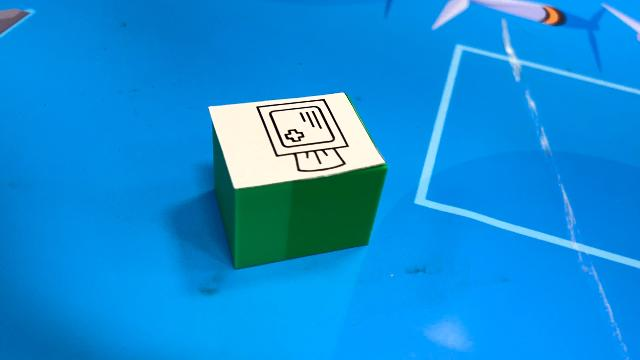napkin: (207, 90, 389, 270)
